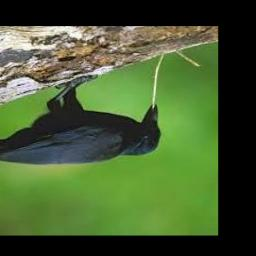Crow: (0, 74, 162, 166)
